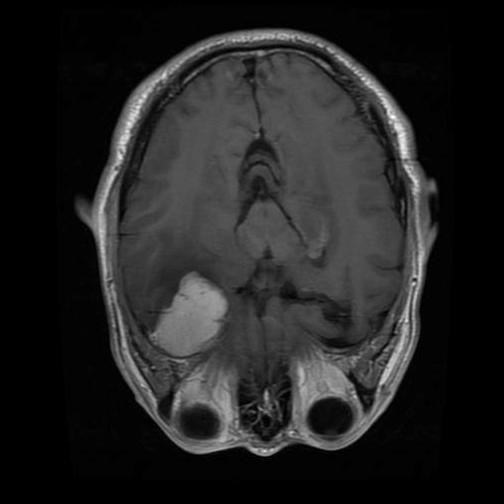Tumour-Meningioma: (135, 257, 247, 365)
